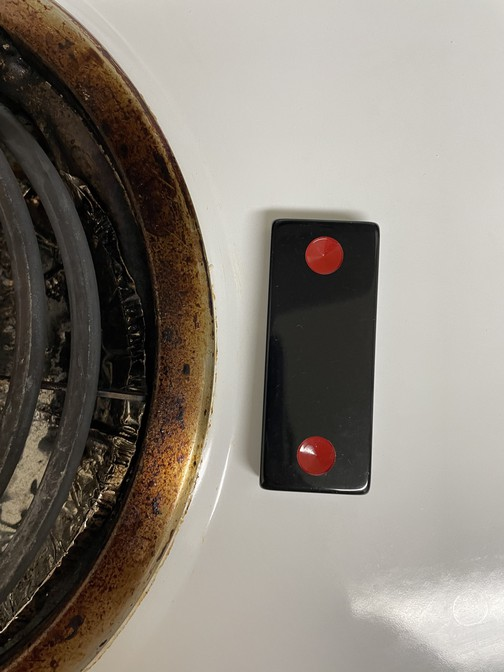earth: (259, 219, 380, 495)
